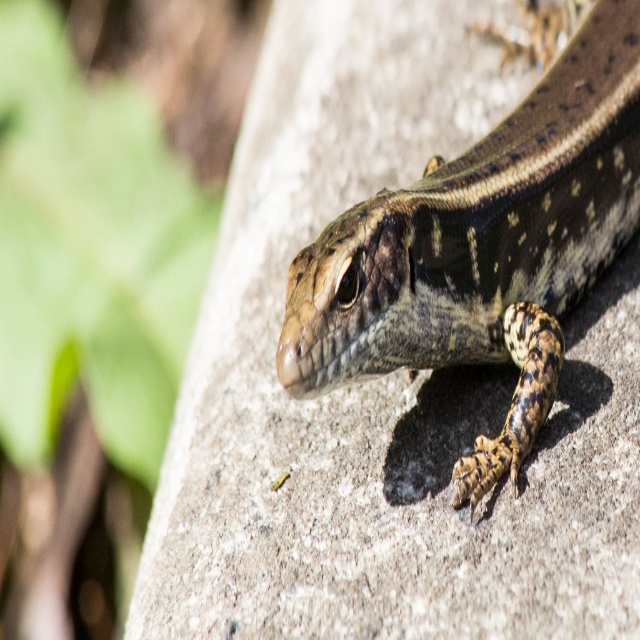Lizard: (273, 44, 640, 533)
